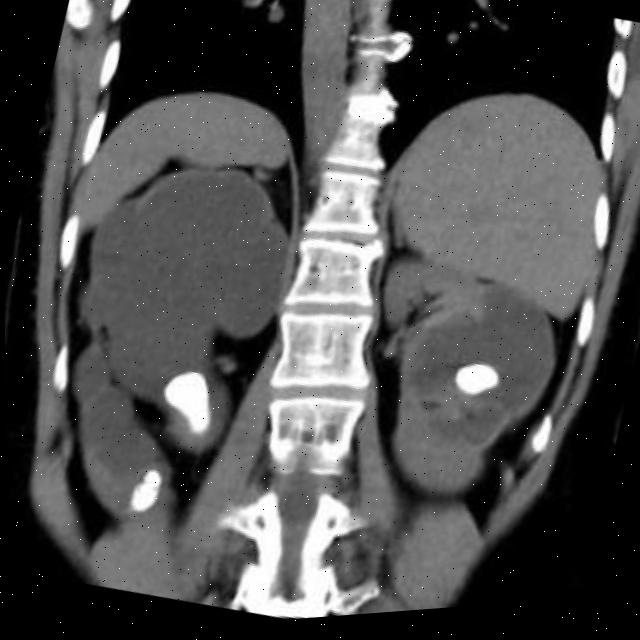Tas_Var: (135, 351, 234, 460), (439, 351, 506, 419), (115, 459, 168, 526)
